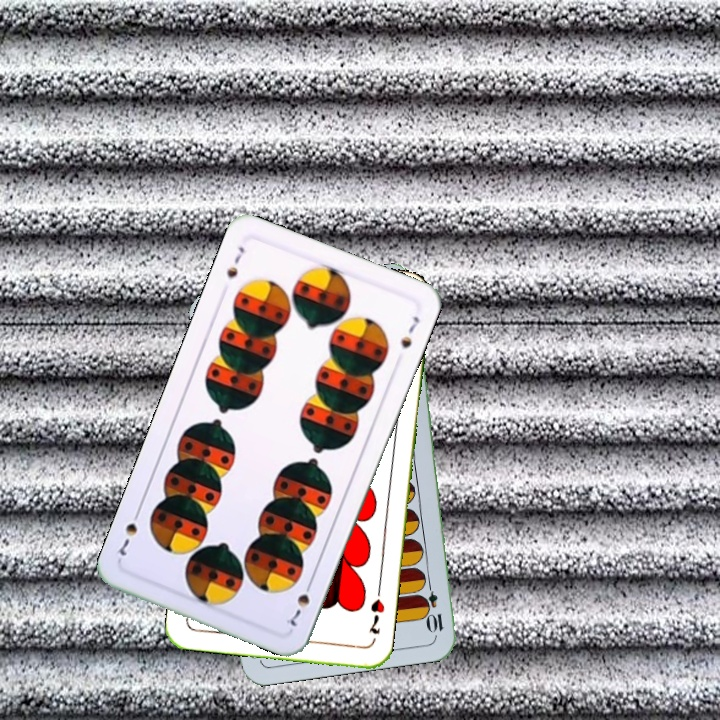E10: (421, 576, 446, 635)
H7: (365, 595, 388, 637)
S7: (282, 575, 316, 629), (222, 242, 248, 281)
